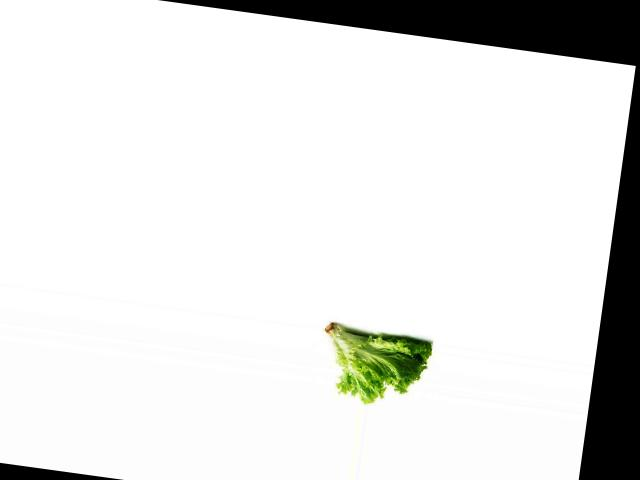lettuce: (313, 319, 433, 412)
